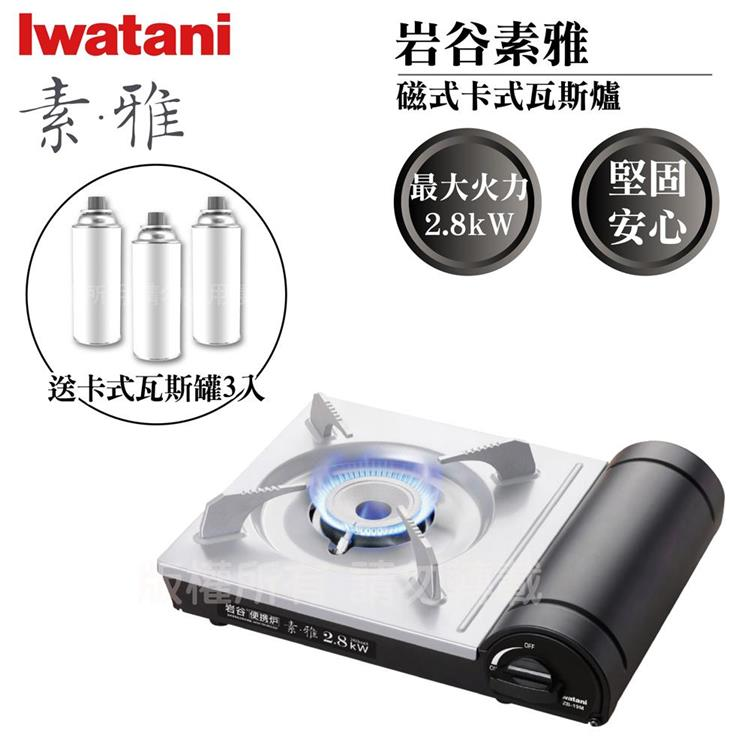gasoven: (149, 378, 724, 725)
